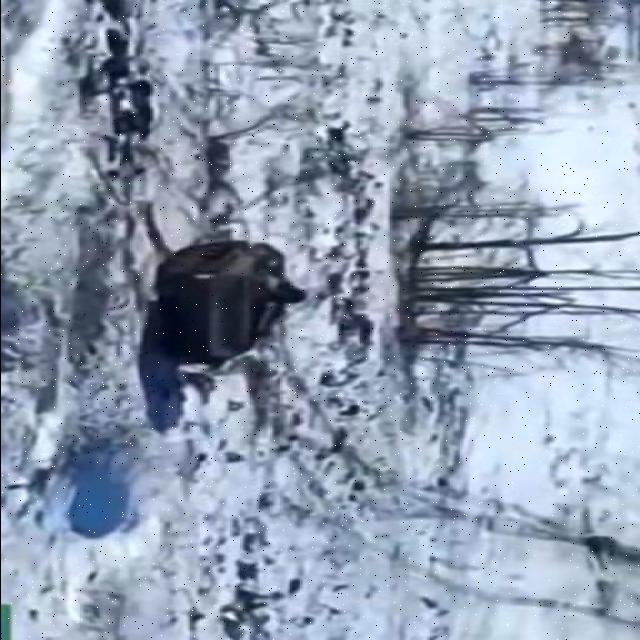APC-IFV: (158, 238, 309, 368)
